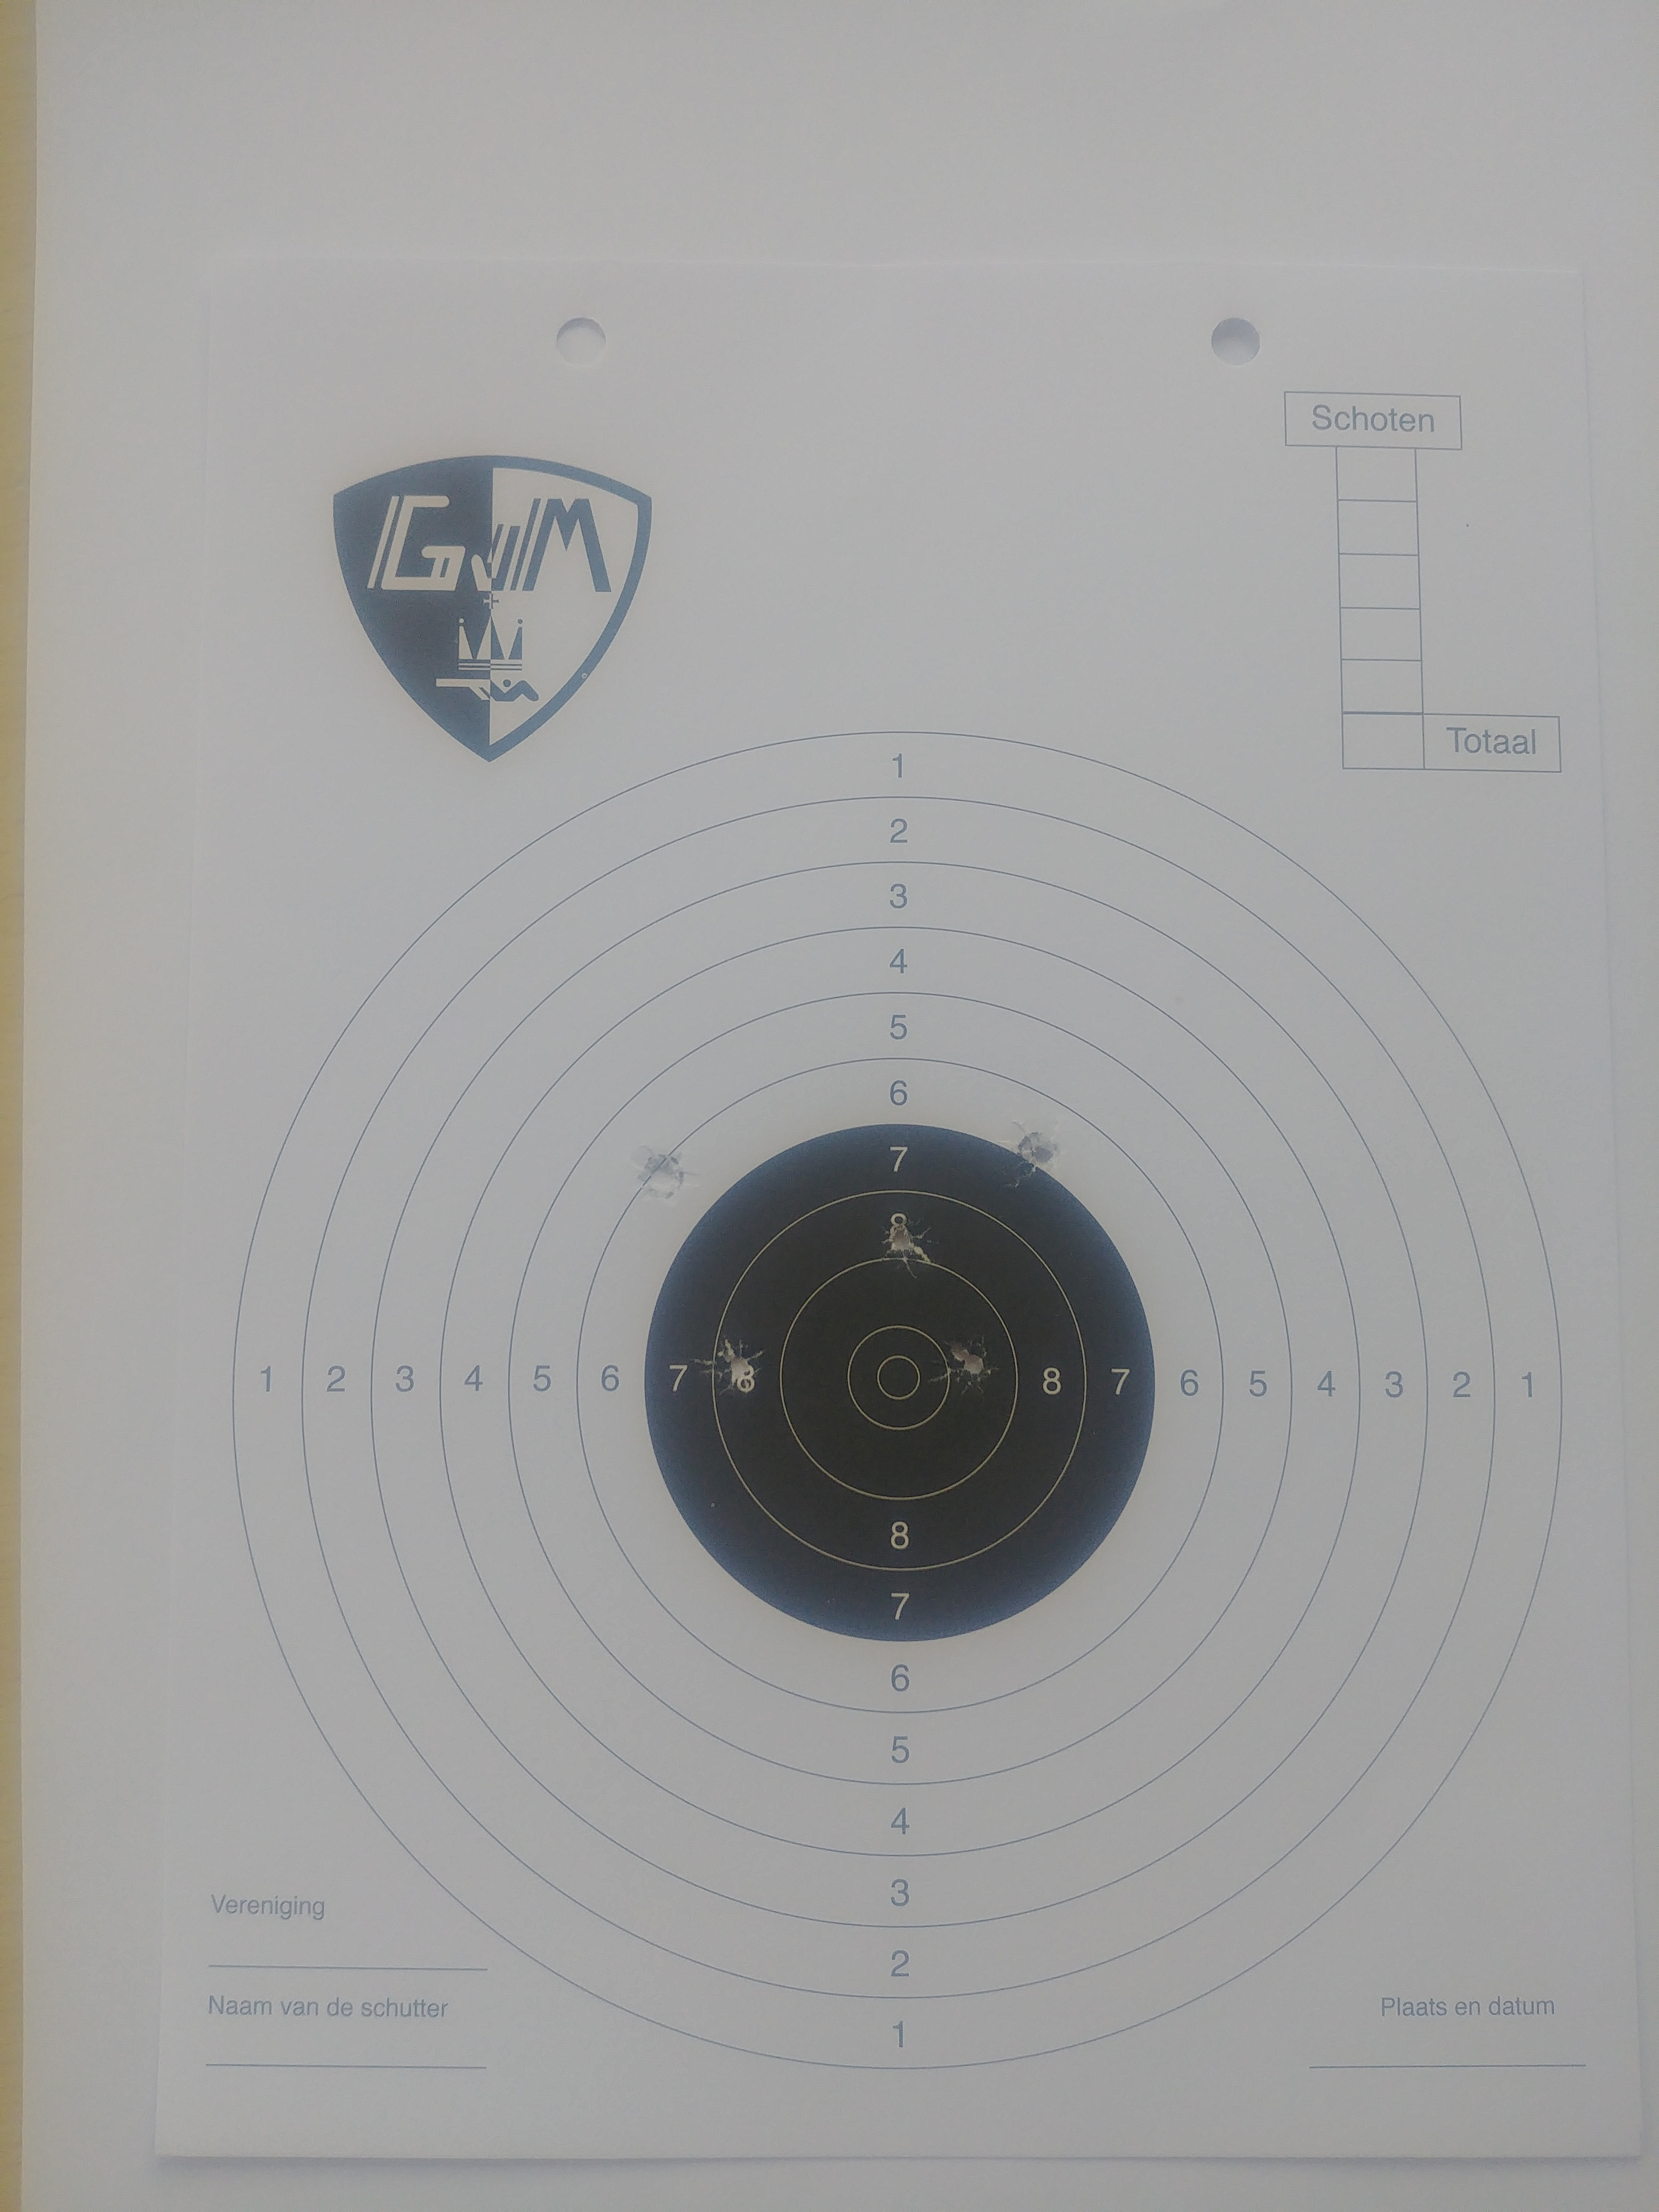center: (643, 1122, 1155, 1642)
out: (230, 730, 1565, 2069)
shot: (1000, 1115, 1070, 1184), (929, 1334, 1000, 1392), (631, 1146, 699, 1202), (878, 1212, 934, 1277), (706, 1338, 765, 1397)
target: (847, 1324, 950, 1430)
